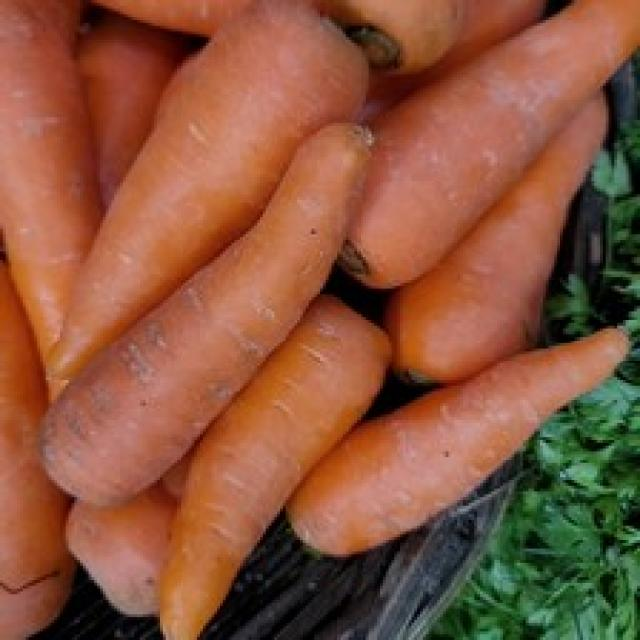Fresh_Carrot: (37, 122, 368, 523), (30, 8, 370, 389), (342, 0, 640, 300), (285, 330, 629, 562), (169, 303, 387, 640), (401, 94, 614, 373), (1, 11, 108, 387)
